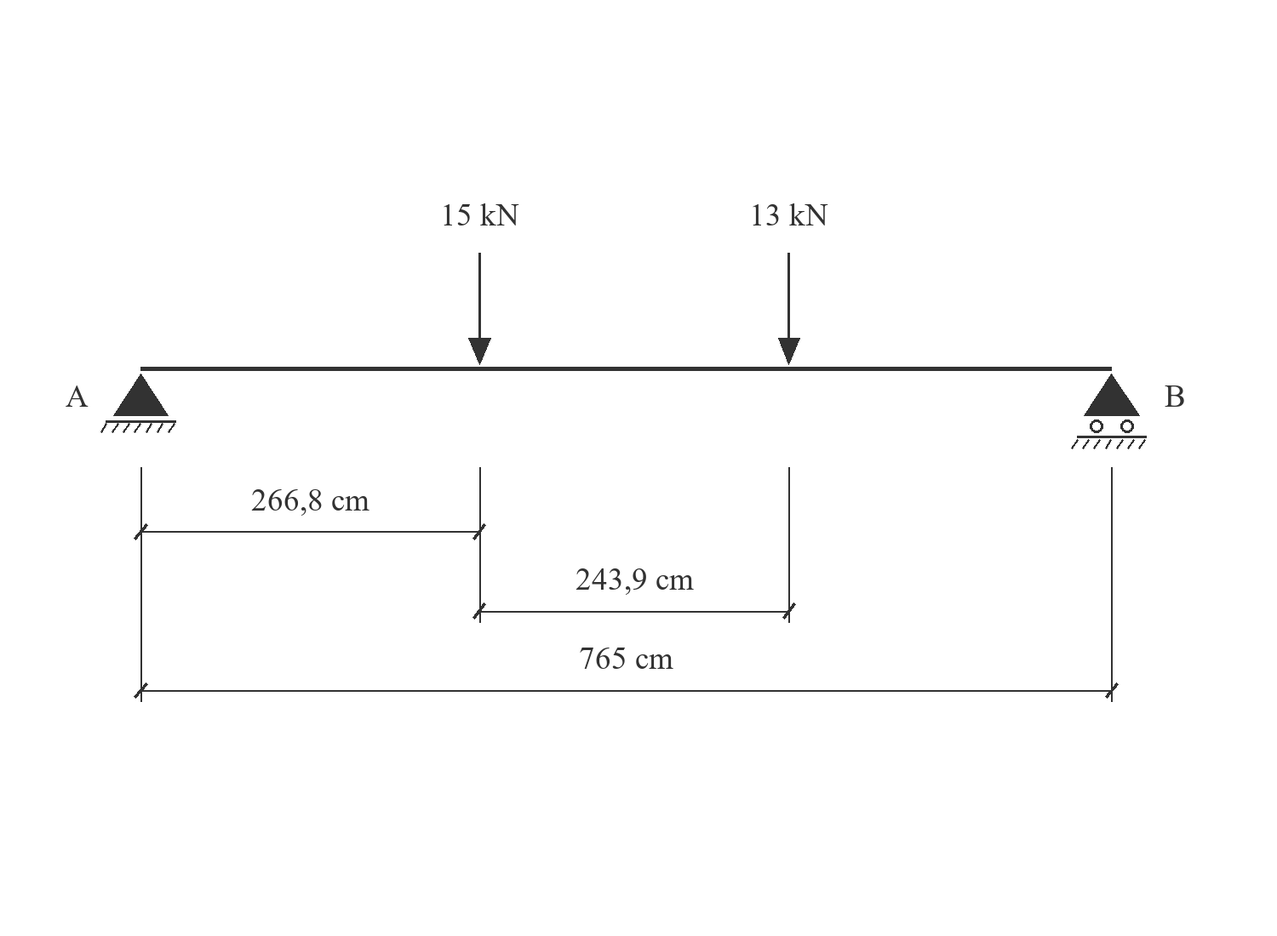pin_support: (100, 374, 176, 433)
point_load: (468, 253, 491, 365), (778, 253, 800, 365)
roller_support: (1071, 374, 1147, 449)
